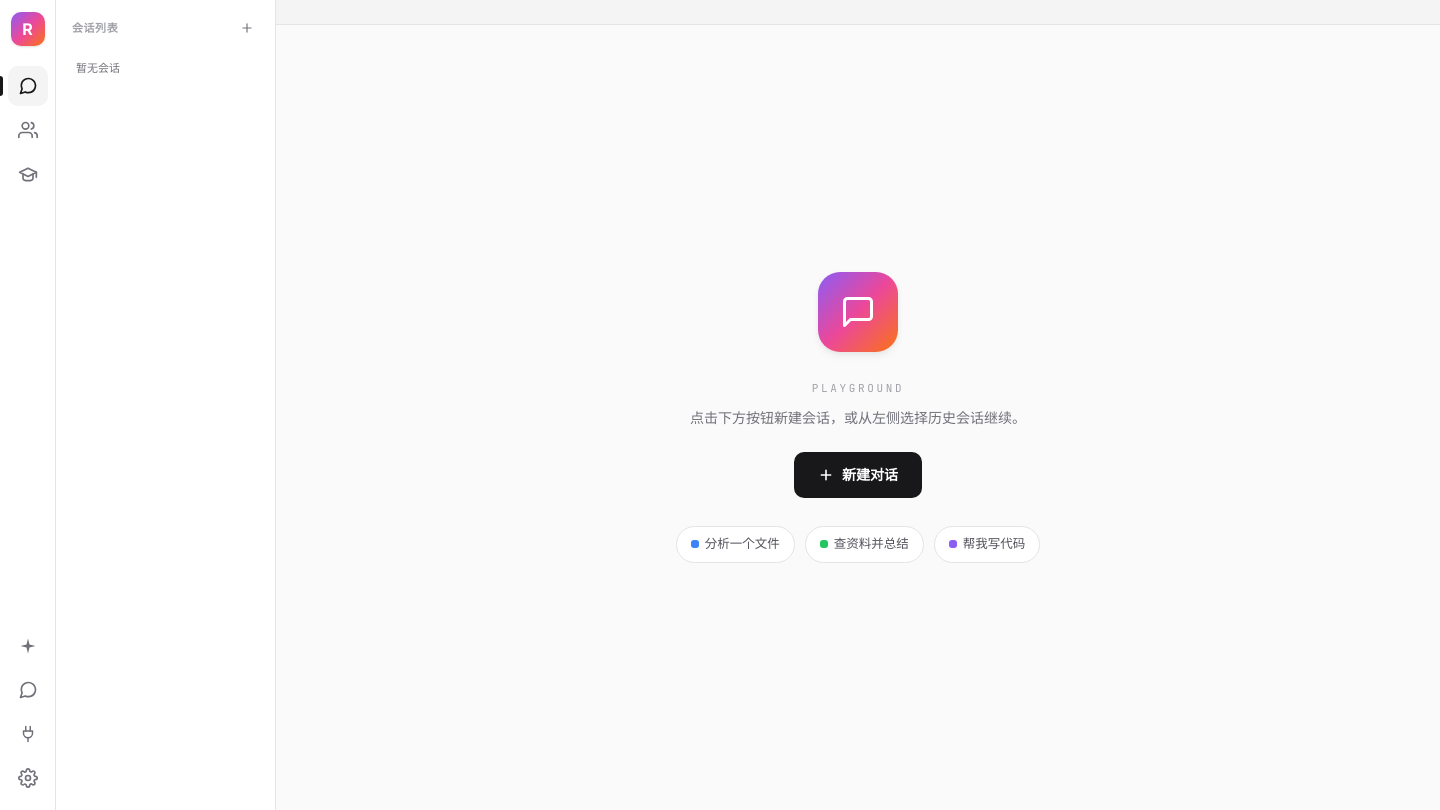
Test: AppShell（[v0.0.47] nav 删齿轮子菜单 + 底部三独立入口；[v0.0.210] +Academy） › 点应用设置 → 主区切到合并页 page-app-settings（[v0.0.47] 替代 page-app-config）
Click the button named "应用设置" at x=28, y=778, box x1=8 y1=758 x2=48 y2=798
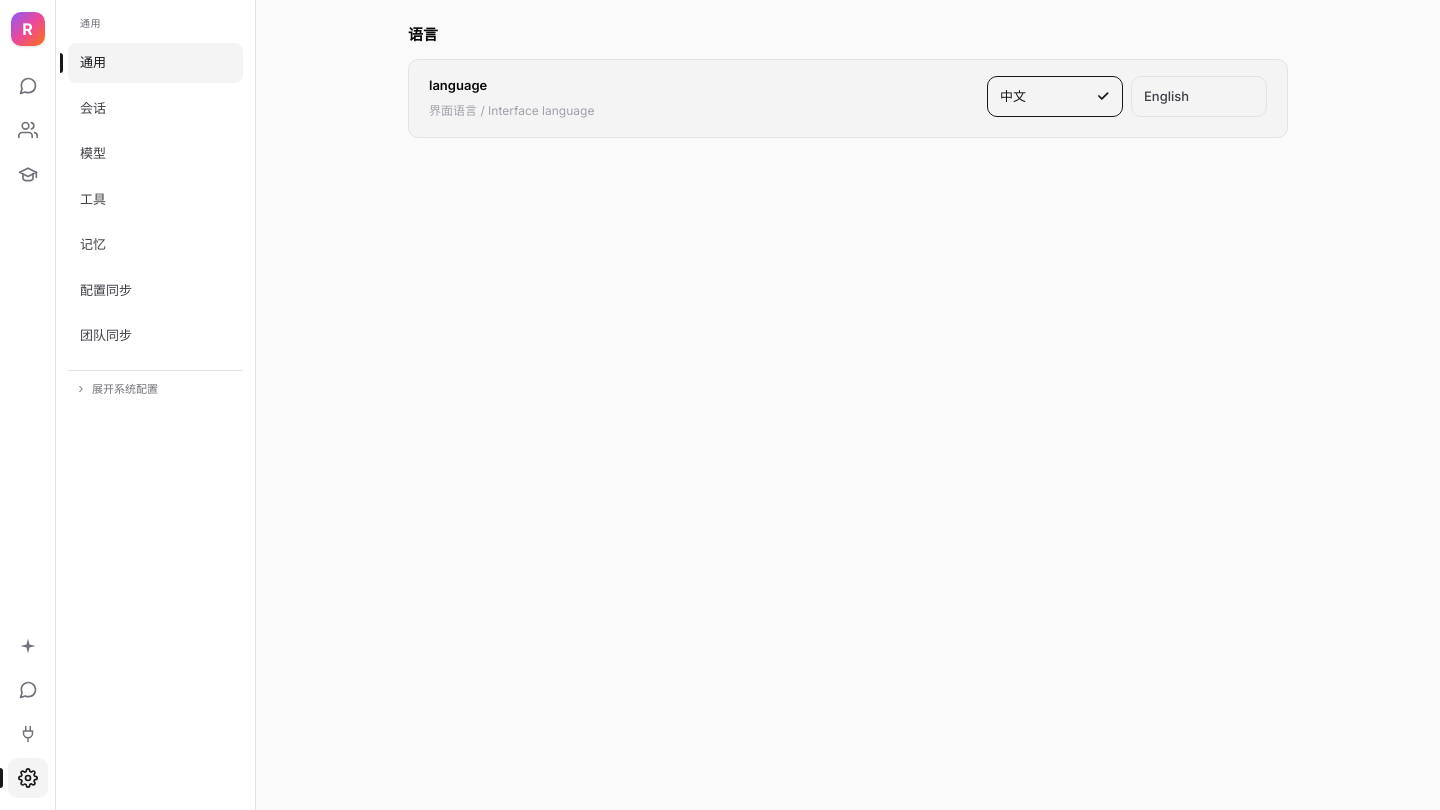
Now the button "通用" is shown, box x1=68 y1=43 x2=243 y2=82
